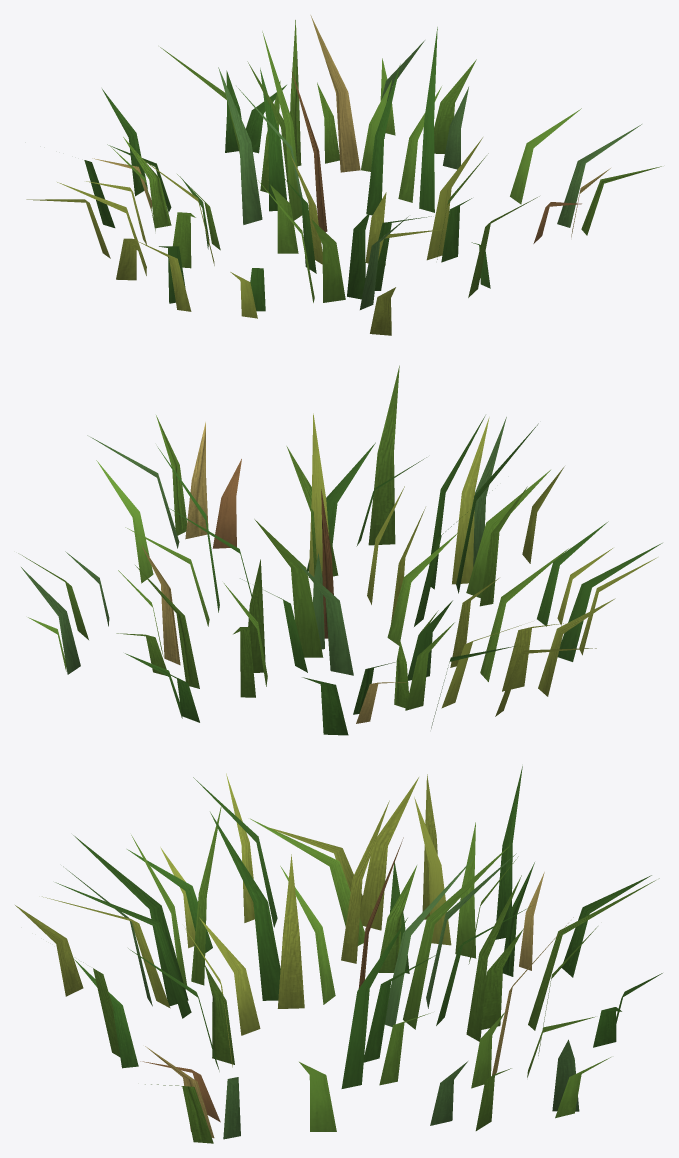
Rendered from grass_short.glb.
The picture shows the model from 3 angles, top to bottom: view 1: azimuth 30°, elevation 25°; view 2: azimuth 150°, elevation 25°; view 3: azimuth 270°, elevation 25°; orthographic projection. The views are drawn at different scales.
Visible parts, largest first — view 1: GrassShort; view 2: GrassShort; view 3: GrassShort.
Boxes of the visible parts, box(x1,y1,x2,y2) form: GrassShort: box(26, 15, 661, 335); GrassShort: box(18, 365, 662, 735); GrassShort: box(15, 766, 662, 1143).
Bounding box in the file's own units: 1.13 × 0.3161 × 0.9756.
Materials: 1 (1 with a texture image).
